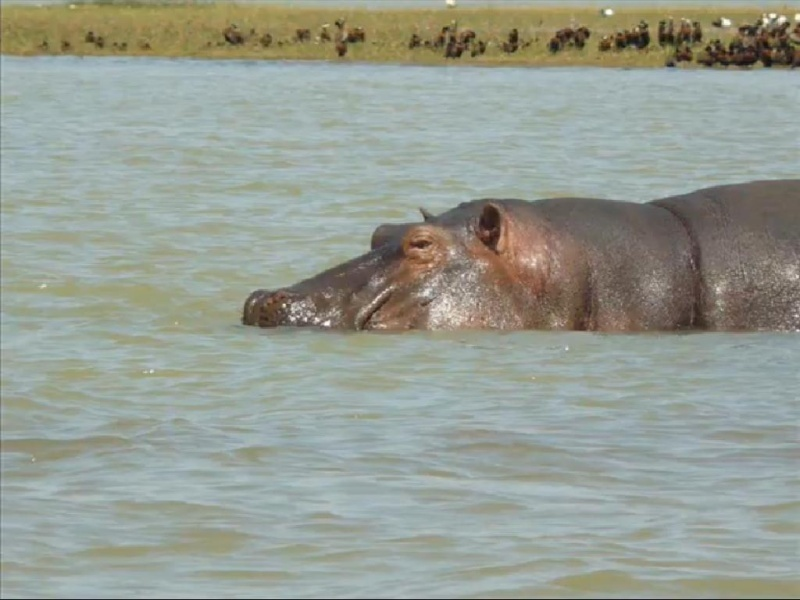hipopotamo: (238, 176, 800, 357)
